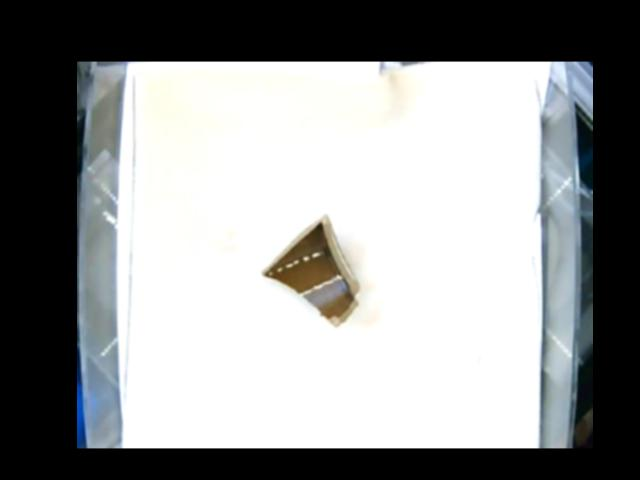China: (264, 216, 359, 326)
